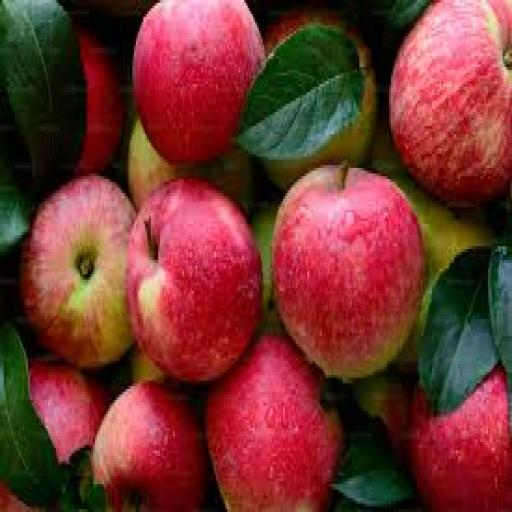Apple: (272, 166, 424, 380), (127, 180, 262, 383), (207, 336, 342, 511), (21, 177, 135, 366), (265, 6, 377, 190), (92, 384, 206, 511), (412, 370, 511, 511), (129, 121, 255, 212), (30, 361, 107, 461), (75, 28, 124, 173)
